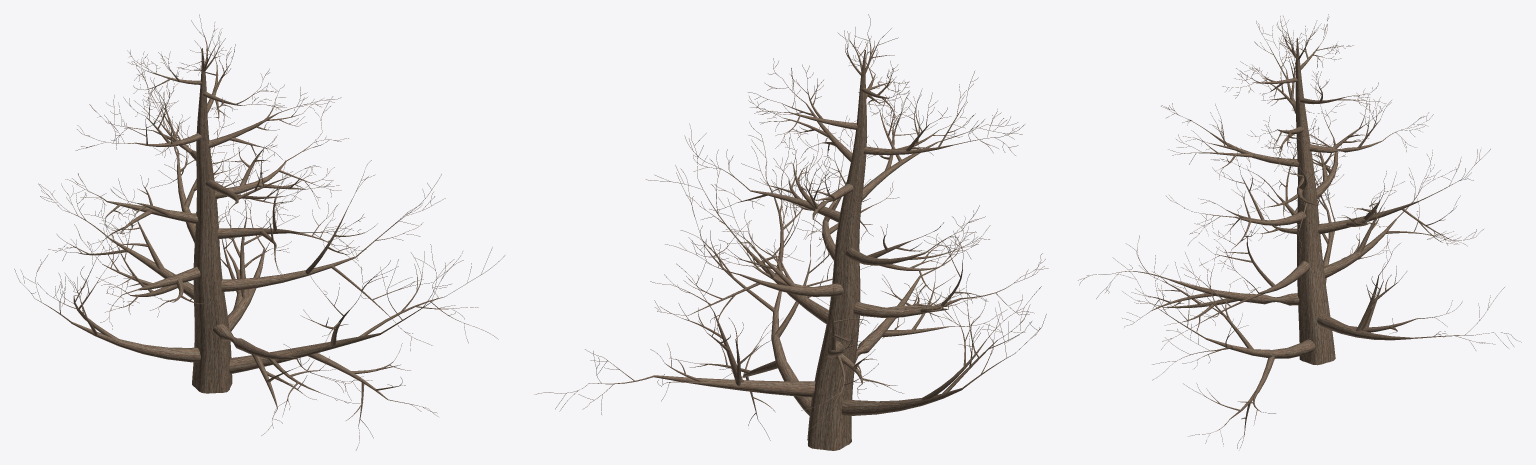
File: crown_2.glb
3 views of the same model, side by side, from view 1: azimuth 30°, elevation 25°; view 2: azimuth 150°, elevation 25°; view 3: azimuth 270°, elevation 25° (orthographic). The views are drawn at different scales.
Bounding box in the file's own units: 9.82 × 9.84 × 10.39.
1 material, 1 textured.
